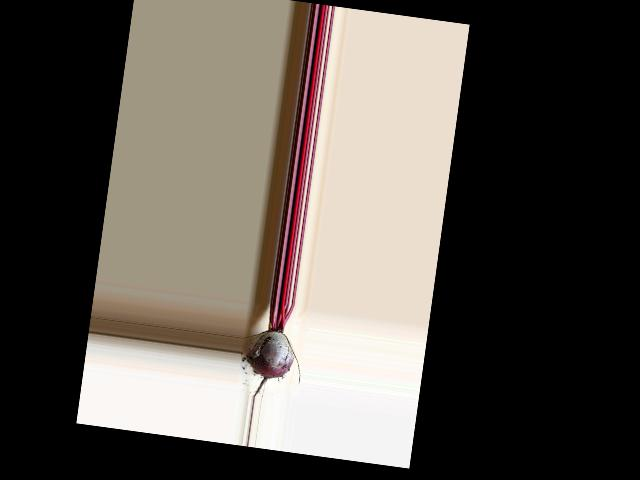beet: (241, 301, 309, 403)
